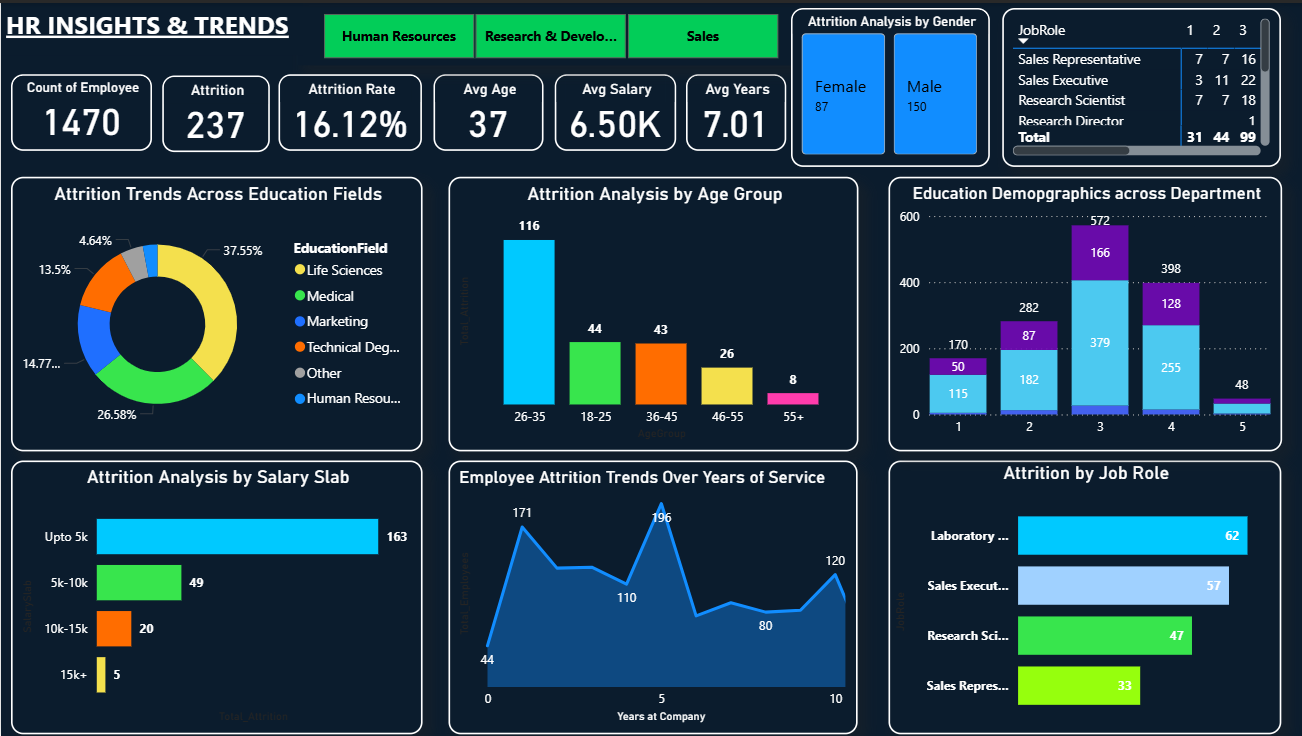

The dashboard page shown, as its layout file describes it:
{"tool":"powerbi","page":{"name":"Report","canvas":[1280,720],"ordinal":0},"visuals":[{"type":"card","title":"Count of Employee","fields":{"Values":["Measures (2).Total_Employees"]},"box":[9.8,69.9,138.7,74.8],"z":0},{"type":"card","title":"Attrition","fields":{"Values":["Measures (2).Attrition_Count"]},"box":[158.3,71.2,105.5,74.8],"z":1000},{"type":"card","title":"Avg Age","fields":{"Values":["Measures (2).Avg_Age"]},"box":[424.5,69.9,108,74.8],"z":2000},{"type":"card","title":"Avg Salary","fields":{"Values":["Measures (2).Avg_Salary"]},"box":[543.6,69.9,119,74.8],"z":3000},{"type":"card","title":"Avg Years","fields":{"Values":["Measures (2).Avg_Years"]},"box":[672.4,69.9,98.2,74.8],"z":4000},{"type":"slicer","fields":{"Values":["Employees.Department"]},"box":[290.8,3.7,495.7,57.7],"z":5000},{"type":"pivotTable","fields":{"Rows":["Employees.JobRole"],"Values":["Measures (2).Attrition_Count"],"Columns":["Employees.EducationLevel"]},"box":[982.8,4.9,273.6,155.8],"z":6000},{"type":"donutChart","title":"Attrition Trends Across Education Fields","fields":{"Y":["Measures (2).Attrition_Count"],"Category":["Employees.EducationField"]},"box":[9.8,170.6,403.7,269.9],"z":7000},{"type":"barChart","title":"Attrition Analysis by Salary Slab","fields":{"Y":["Measures (2).Attrition_Count"],"Category":["Employees.SalarySlab"]},"box":[9.8,449.1,403.7,268.7],"z":8000},{"type":"clusteredBarChart","title":"Attrition by Job Role","fields":{"Category":["Employees.JobRole"],"Y":["Measures (2).Attrition_Count"]},"box":[871.2,449.1,385.3,268.7],"z":9000},{"type":"advancedSlicerVisual","title":"Attrition Analysis by Gender","fields":{"Label":["Measures (2).Attrition_Count"],"Values":["Employees.Gender"]},"box":[775.5,4.9,195.1,155.8],"z":10000},{"type":"card","title":"Attrition Rate","fields":{"Values":["Measures (2).Attrition %"]},"box":[272.4,69.9,141.1,74.8],"z":11000},{"type":"clusteredColumnChart","title":"Attrition Analysis by Age Group","fields":{"Category":["Employees.AgeGroup"],"Y":["Measures (2).Attrition_Count"]},"box":[439.3,170.6,402.5,269.9],"z":12000},{"type":"lineStackedColumnComboChart","title":"Education Demopgraphics across Department","fields":{"Category":["Employees.EducationLevel"],"Series":["Employees.Department"],"Y":["Measures (2).Total_Employees"],"Y2":["Measures (2).Total_Employees"]},"box":[871.2,170.6,386.5,269.9],"z":13000},{"type":"textbox","box":[0,0,295.7,51.5],"z":14000},{"type":"areaChart","title":"Employee Attrition Trends Over Years of Service","fields":{"Category":["Employees.YearsAtCompany"],"Y":["Measures (2).Total_Employees"]},"box":[439.3,449.1,401.2,268.7],"z":15000}]}

Visuals, with their boxes in screenshot pixels (x1, y1, x2, y2), scaled from the page's 1280x720 canvas onto the 1302x736 screenshot:
"Count of Employee" card: [10,71,151,148]
"Attrition" card: [161,73,268,149]
"Avg Age" card: [432,71,542,148]
"Avg Salary" card: [553,71,674,148]
"Avg Years" card: [684,71,784,148]
slicer - Employees.Department: [296,4,800,63]
pivotTable - Employees.JobRole x Measures (2).Attrition_Count: [1000,5,1278,164]
"Attrition Trends Across Education Fields" donutChart: [10,174,421,450]
"Attrition Analysis by Salary Slab" barChart: [10,459,421,734]
"Attrition by Job Role" clusteredBarChart: [886,459,1278,734]
"Attrition Analysis by Gender" advancedSlicerVisual: [789,5,987,164]
"Attrition Rate" card: [277,71,421,148]
"Attrition Analysis by Age Group" clusteredColumnChart: [447,174,856,450]
"Education Demopgraphics across Department" lineStackedColumnComboChart: [886,174,1279,450]
textbox: [0,0,301,53]
"Employee Attrition Trends Over Years of Service" areaChart: [447,459,855,734]
